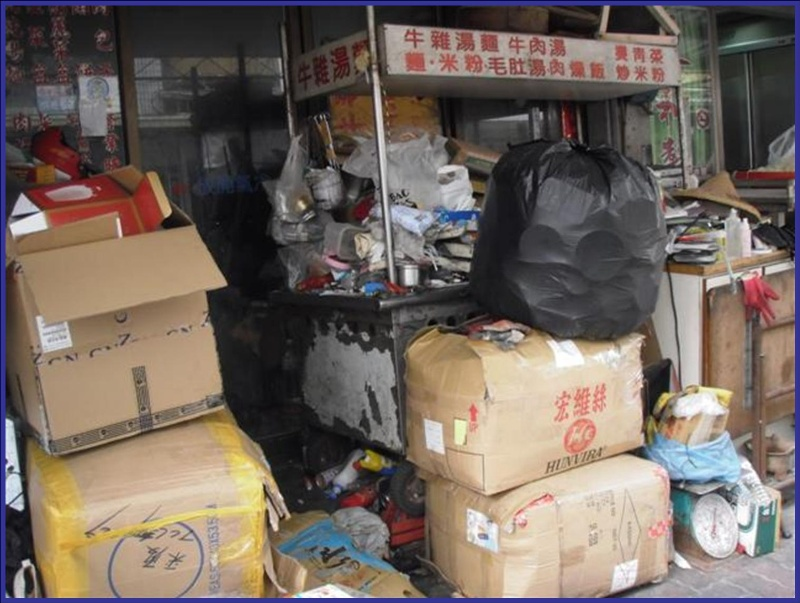bottle: (724, 206, 743, 260)
bowl: (394, 262, 432, 290)
box: (4, 222, 234, 455), (397, 322, 657, 497), (18, 426, 272, 603), (419, 452, 672, 598), (322, 217, 369, 261)
plastic_bag: (468, 136, 673, 342), (268, 132, 324, 246), (387, 127, 455, 210), (649, 428, 743, 484)
